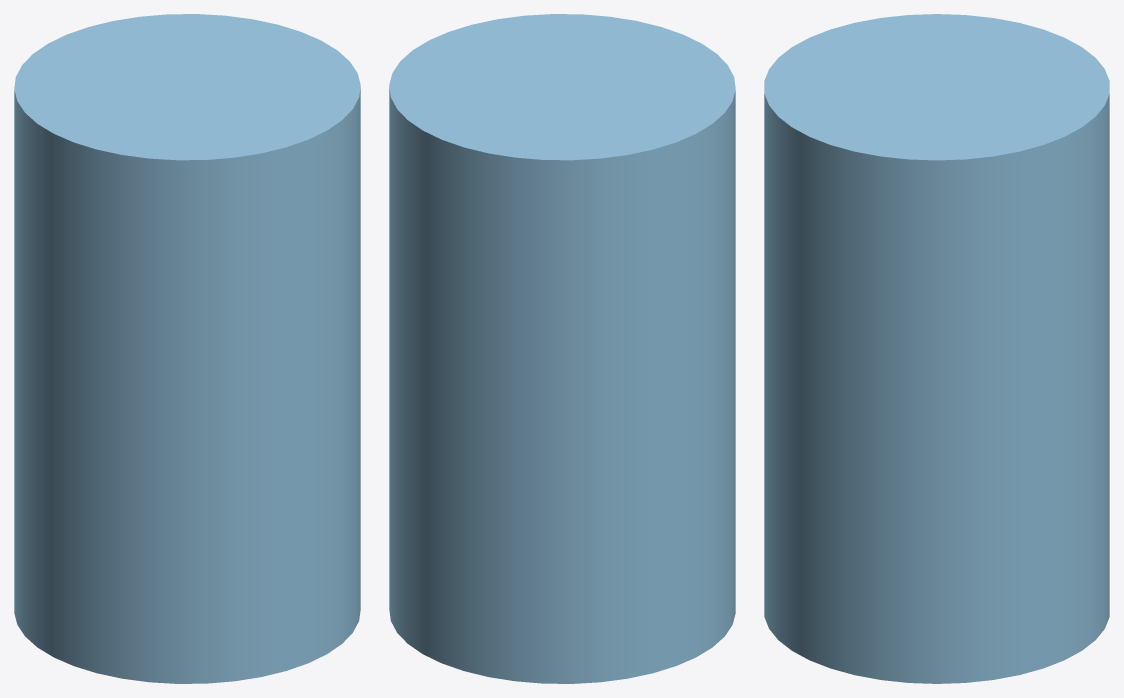
3 views of the same model, side by side, from view 1: azimuth 30°, elevation 25°; view 2: azimuth 150°, elevation 25°; view 3: azimuth 270°, elevation 25° (orthographic).
Parts seen in each view (by area): view 1: ID2; view 2: ID2; view 3: ID2.
Part boxes in pixels (left/top/right/bottom): ID2: left=14, top=14, right=360, bottom=683; ID2: left=389, top=14, right=735, bottom=683; ID2: left=764, top=14, right=1109, bottom=683.
Bounding box in the file's own units: 0.6 × 0.5979 × 1.
